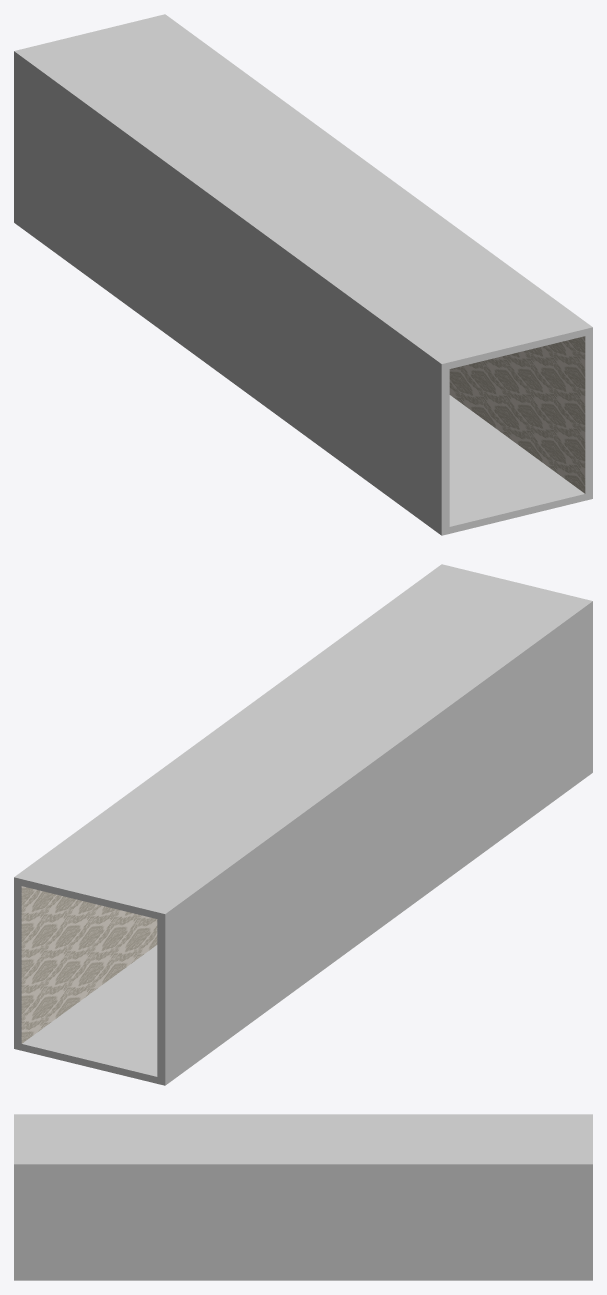
Rendered from map.glb.
3 views of the same model, one above another, from view 1: azimuth 30°, elevation 25°; view 2: azimuth 150°, elevation 25°; view 3: azimuth 270°, elevation 25° (orthographic). The views are drawn at different scales.
Parts seen in each view (by area): view 1: Cube; view 2: Cube; view 3: Cube.
Boxes of the visible parts, x1,y1,x2,y2 form: Cube: (14,14,592,535); Cube: (14,564,592,1085); Cube: (14,1114,592,1280).
Size of what is drawn, in the model's own units: 4.44 by 4.81 by 21.73.
4 materials, 2 textured.
